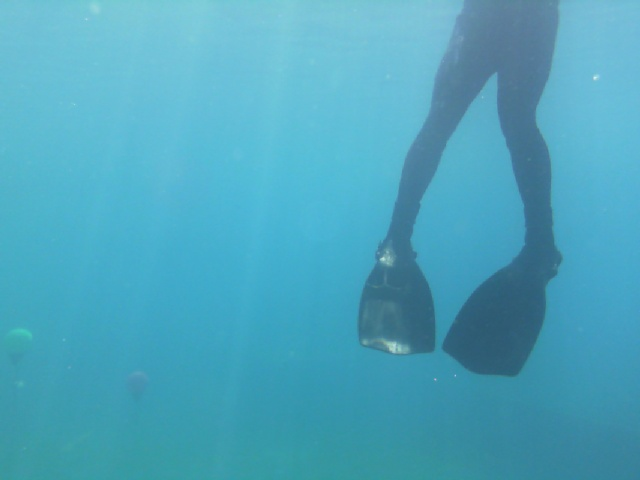buoy_green: (4, 327, 33, 365)
buoy_red: (124, 371, 152, 405)
